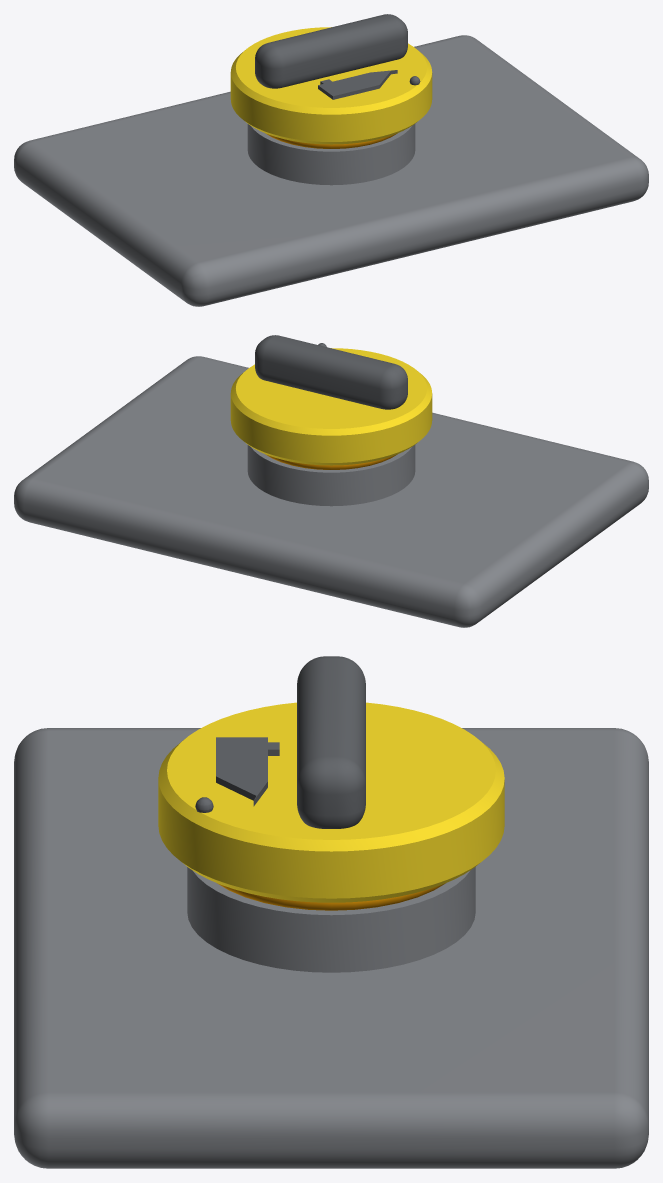
File: oil_filler_cap.glb
3 views of the same model, one above another, from view 1: azimuth 30°, elevation 25°; view 2: azimuth 150°, elevation 25°; view 3: azimuth 270°, elevation 25° (orthographic). The views are drawn at different scales.
Visible parts, largest first — view 1: valve_cover, cap, gasket; view 2: valve_cover, cap, gasket; view 3: valve_cover, cap, gasket.
Part boxes in pixels (box(x1,y1,x2,y2)): valve_cover: box(14, 35, 648, 306); cap: box(230, 14, 432, 144); gasket: box(265, 133, 397, 148); valve_cover: box(14, 356, 648, 627); cap: box(230, 335, 432, 465); gasket: box(265, 454, 397, 469); valve_cover: box(14, 728, 648, 1168); cap: box(158, 656, 504, 902); gasket: box(217, 883, 445, 910).
Size of the model in its own units: 160 by 53 by 110.
